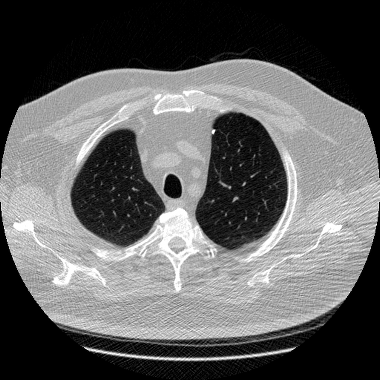nodule: (211, 129, 215, 133)
